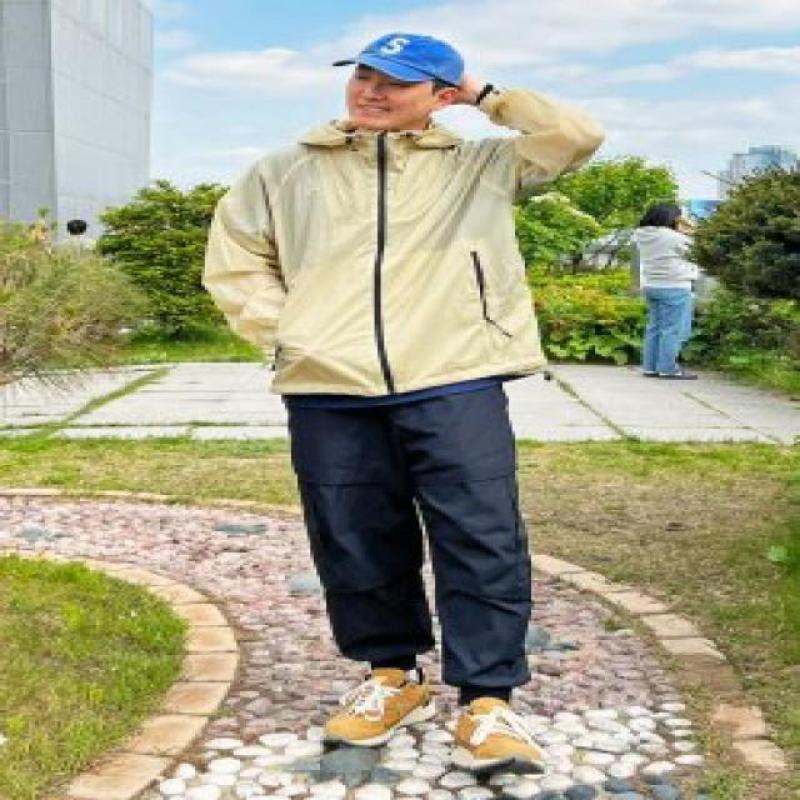jacket: (200, 87, 603, 402)
trousers: (284, 383, 536, 699)
